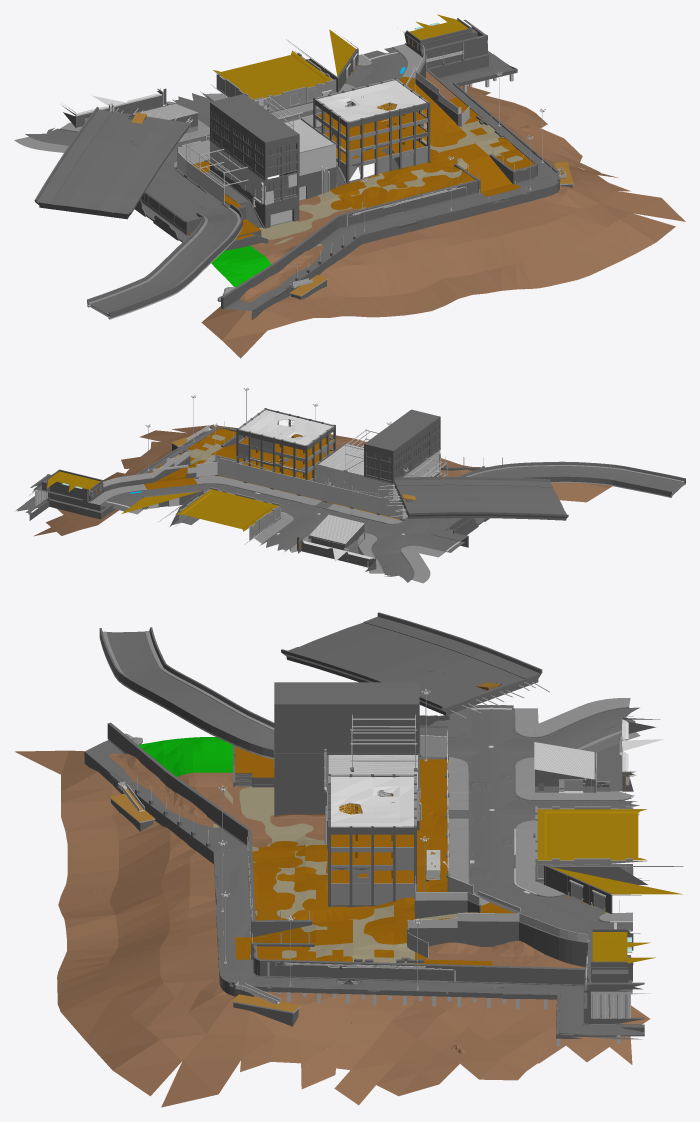
File: bronx_e_9.FBX
3 renders of one model, top to bottom at view 1: azimuth 30°, elevation 25°; view 2: azimuth 150°, elevation 25°; view 3: azimuth 270°, elevation 25°, orthographic. The views are drawn at different scales.
Parts seen in each view (by area): view 1: unnamed, null; view 2: unnamed, null; view 3: unnamed, null.
Part boxes in pixels (left/top/right/bottom): unnamed: left=14, top=14, right=685, bottom=358; null: left=192, top=29, right=375, bottom=121; unnamed: left=15, top=387, right=685, bottom=583; null: left=121, top=477, right=313, bottom=547; unnamed: left=15, top=612, right=663, bottom=1107; null: left=471, top=806, right=683, bottom=913.
Size of the model in its own units: 248 by 56.23 by 183.
